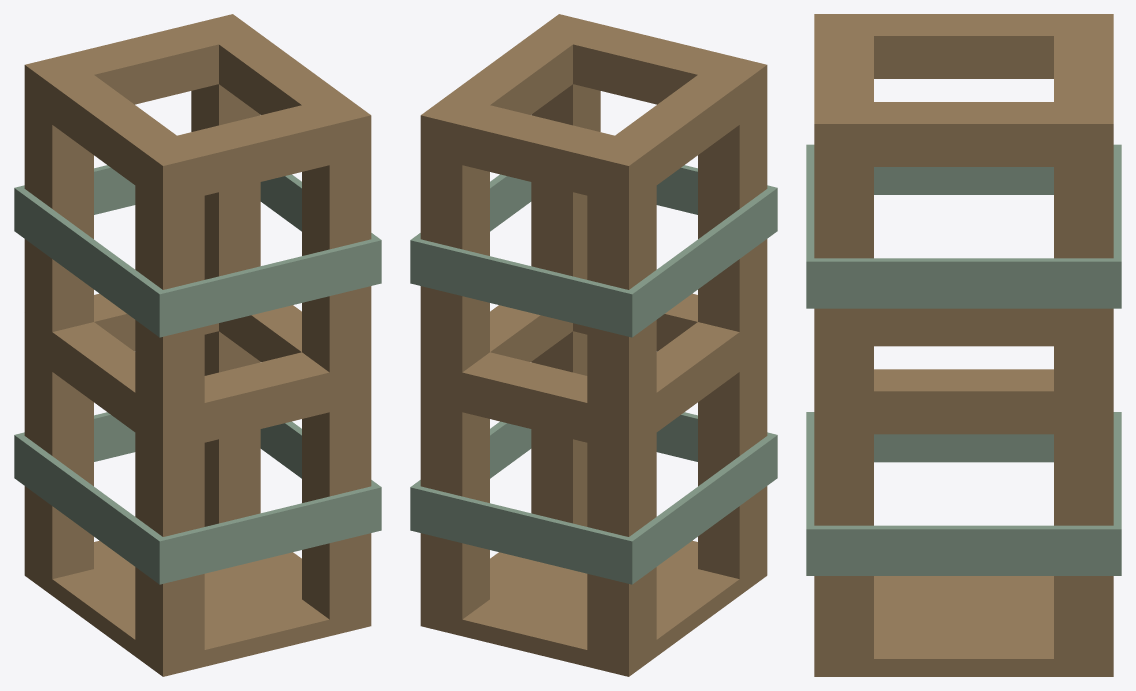
File: rock_slinger_magazine(burst2).fbx
3 views of the same model, side by side, from view 1: azimuth 30°, elevation 25°; view 2: azimuth 150°, elevation 25°; view 3: azimuth 270°, elevation 25° (orthographic). The views are drawn at different scales.
Parts seen in each view (by area): view 1: magazine(burst2); view 2: magazine(burst2); view 3: magazine(burst2).
Part boxes in pixels (x1=…): magazine(burst2): x1=14, y1=14, x2=381, y2=676; magazine(burst2): x1=410, y1=14, x2=777, y2=676; magazine(burst2): x1=806, y1=14, x2=1121, y2=676.
Size of the model in its own units: 26.14 by 57.47 by 29.68.
Materials: 1 (1 with a texture image).
